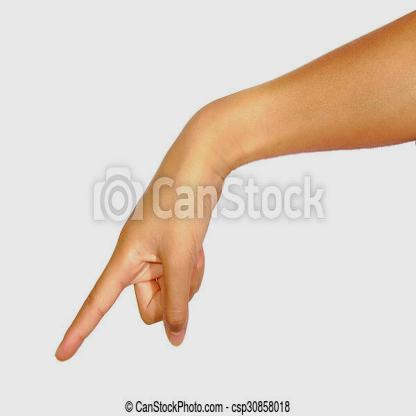Down: (44, 95, 224, 353)
